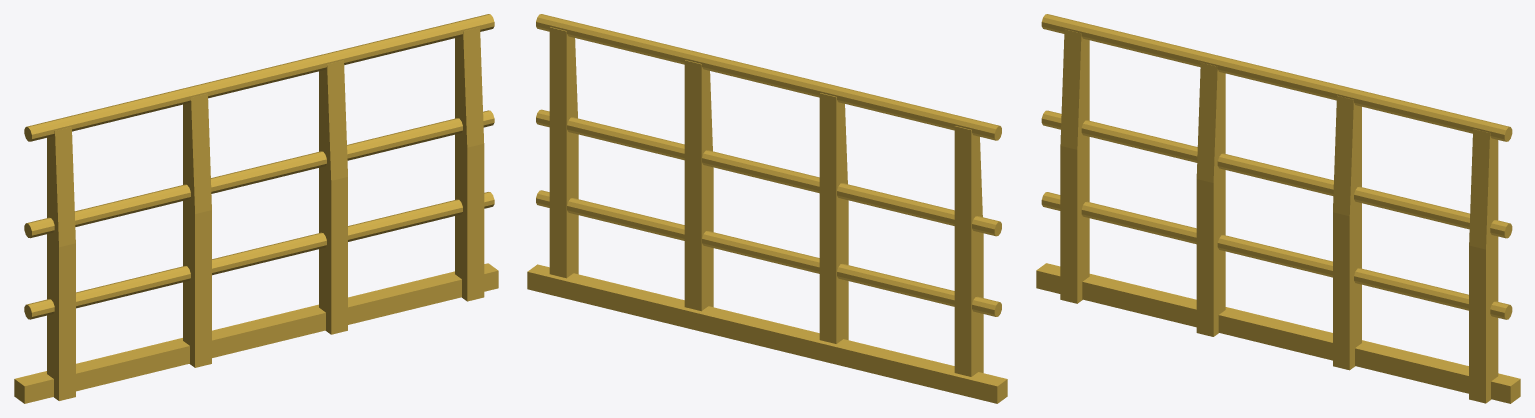
Rendered from zabor.fbx.
3 renders of one model, left to right at view 1: azimuth 30°, elevation 25°; view 2: azimuth 150°, elevation 25°; view 3: azimuth 330°, elevation 25°, orthographic.
Visible parts, largest first — view 1: zabor; view 2: zabor; view 3: zabor.
Part boxes in pixels (bbox=[...]): zabor: bbox=[14, 14, 498, 403]; zabor: bbox=[527, 14, 1007, 403]; zabor: bbox=[1036, 14, 1520, 403].
Bounding box in the file's own units: 17.64 × 9.73 × 0.9853.
1 material, 1 textured.
